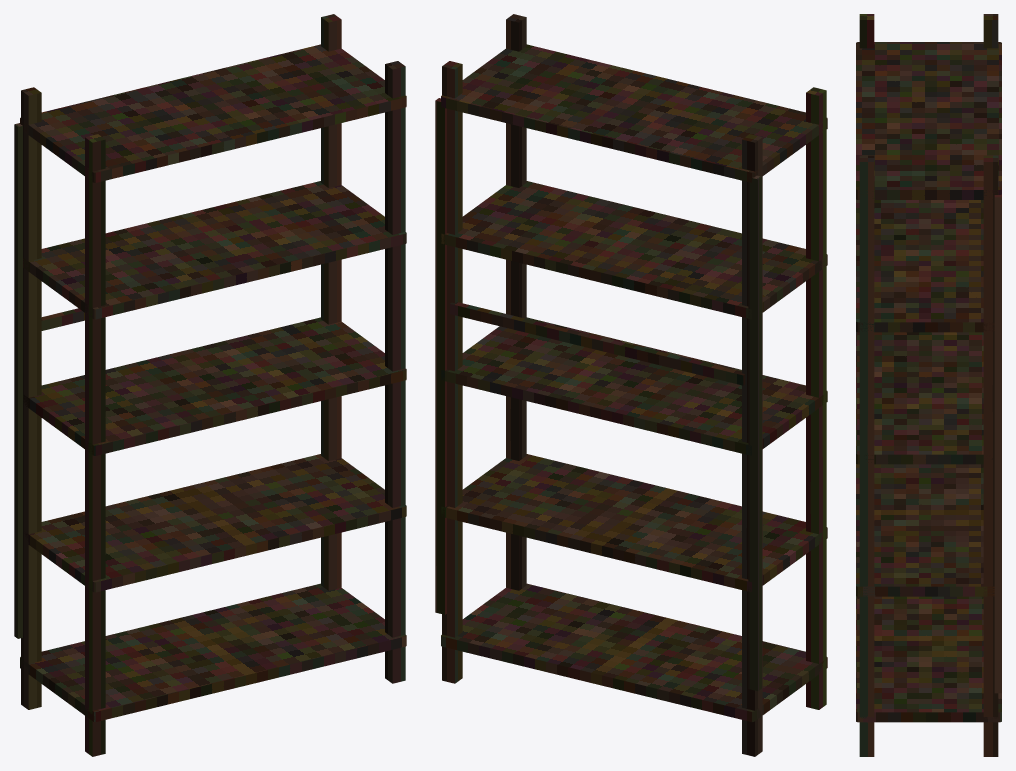
Rendered from StorageShelves.glb.
The picture shows the model from 3 angles, left to right: view 1: azimuth 30°, elevation 25°; view 2: azimuth 150°, elevation 25°; view 3: azimuth 270°, elevation 25°; orthographic projection. The views are drawn at different scales.
Parts seen in each view (by area): view 1: Shelves; view 2: Shelves; view 3: Shelves.
Part boxes in pixels (<box>): Shelves: <box>14,14,406,756</box>; Shelves: <box>435,14,827,756</box>; Shelves: <box>856,14,1001,756</box>.
Size of the model in its own units: 0.99 by 1.8 by 0.4.
1 material, 1 textured.
